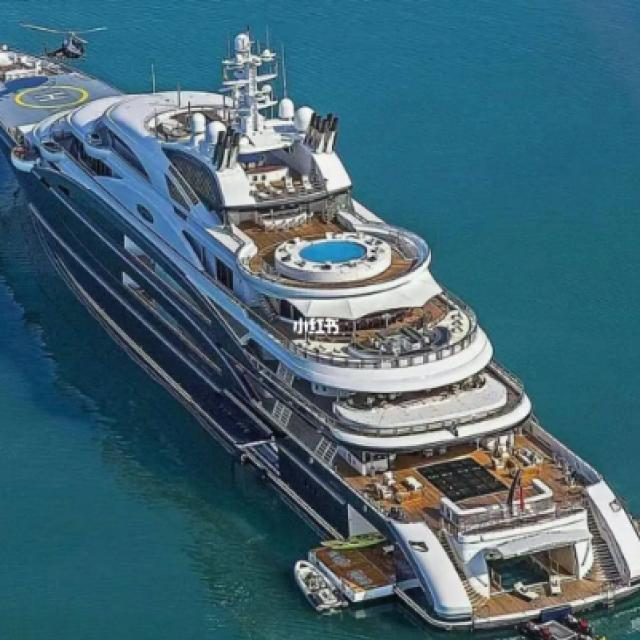navalvessels: (9, 40, 636, 640)
